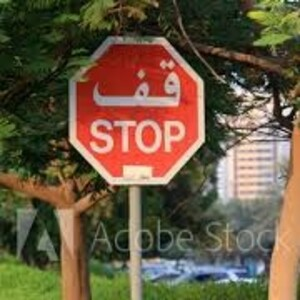stop: (69, 35, 205, 187)
